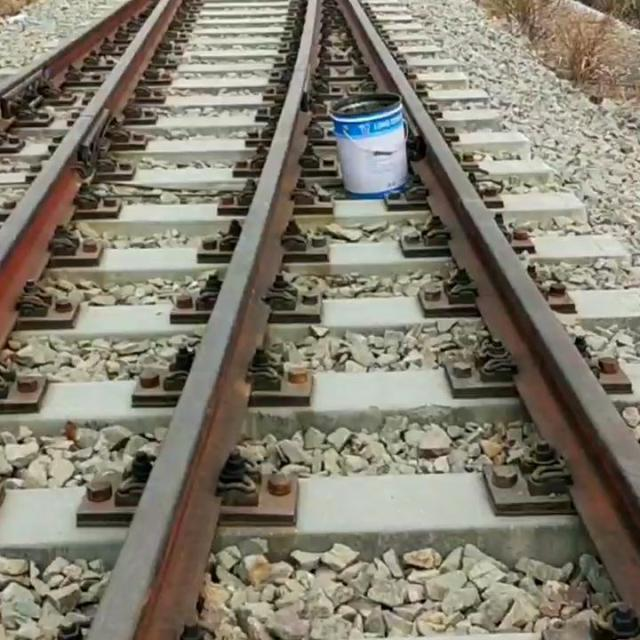rail: (341, 1, 640, 603), (89, 1, 322, 640), (1, 1, 182, 347), (2, 1, 154, 118)
